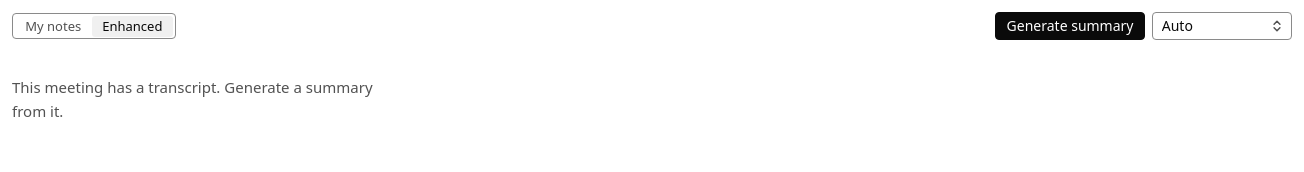
generating › shows a thrown error as a failure instead of leaving the bar stuck
This screenshot has width=1304, height=172.
Click the button with test id "BtnGenerateSummary" at (1070, 26), box [995, 12, 1145, 40]
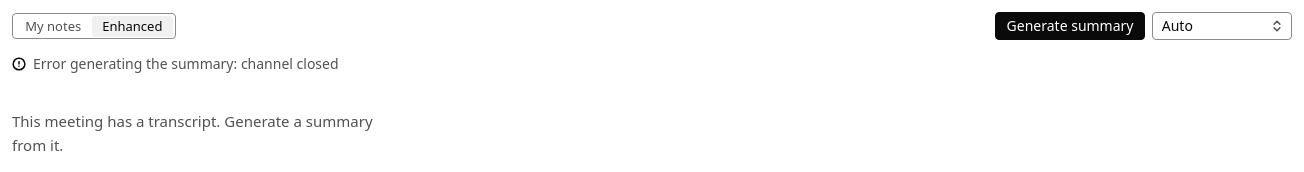
Check: the text "Error generating the summary: channel closed" is shown, box [33, 54, 339, 74]
